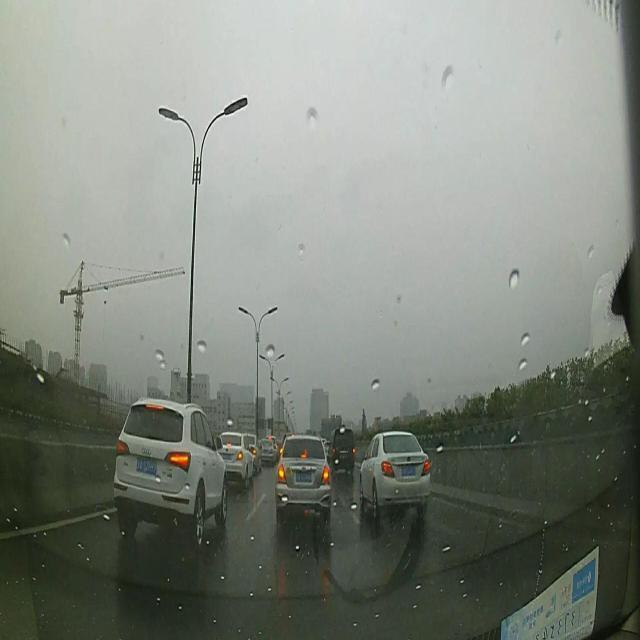car: (114, 398, 228, 544), (360, 429, 432, 514), (274, 433, 332, 521), (217, 429, 252, 490), (327, 425, 355, 471), (258, 437, 276, 463), (248, 440, 262, 473)
